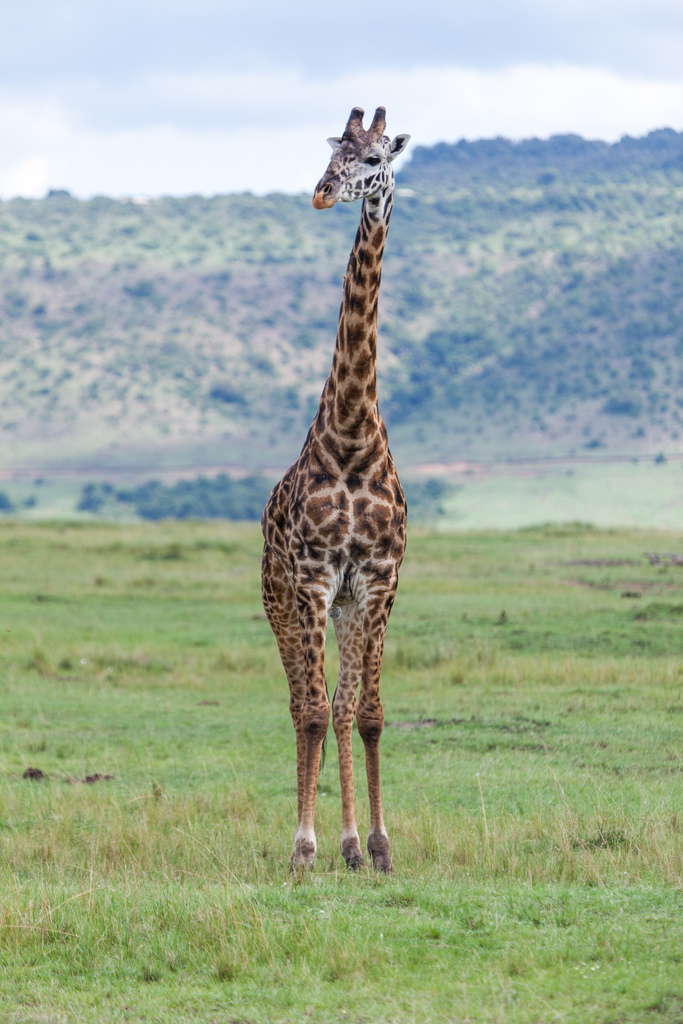giraffe: (260, 82, 438, 902)
